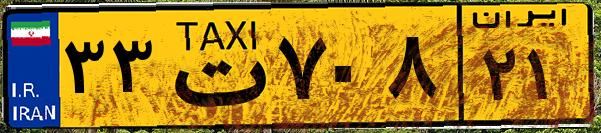0: (330, 28, 385, 110)
1: (525, 38, 570, 115)
2: (475, 38, 525, 113)
3: (57, 26, 110, 100), (110, 28, 158, 98)
7: (270, 28, 330, 110)
8: (385, 28, 445, 110)
ت: (158, 12, 270, 120)
